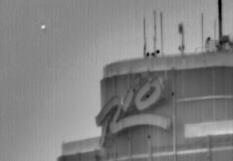Target: (42, 26, 45, 29)
